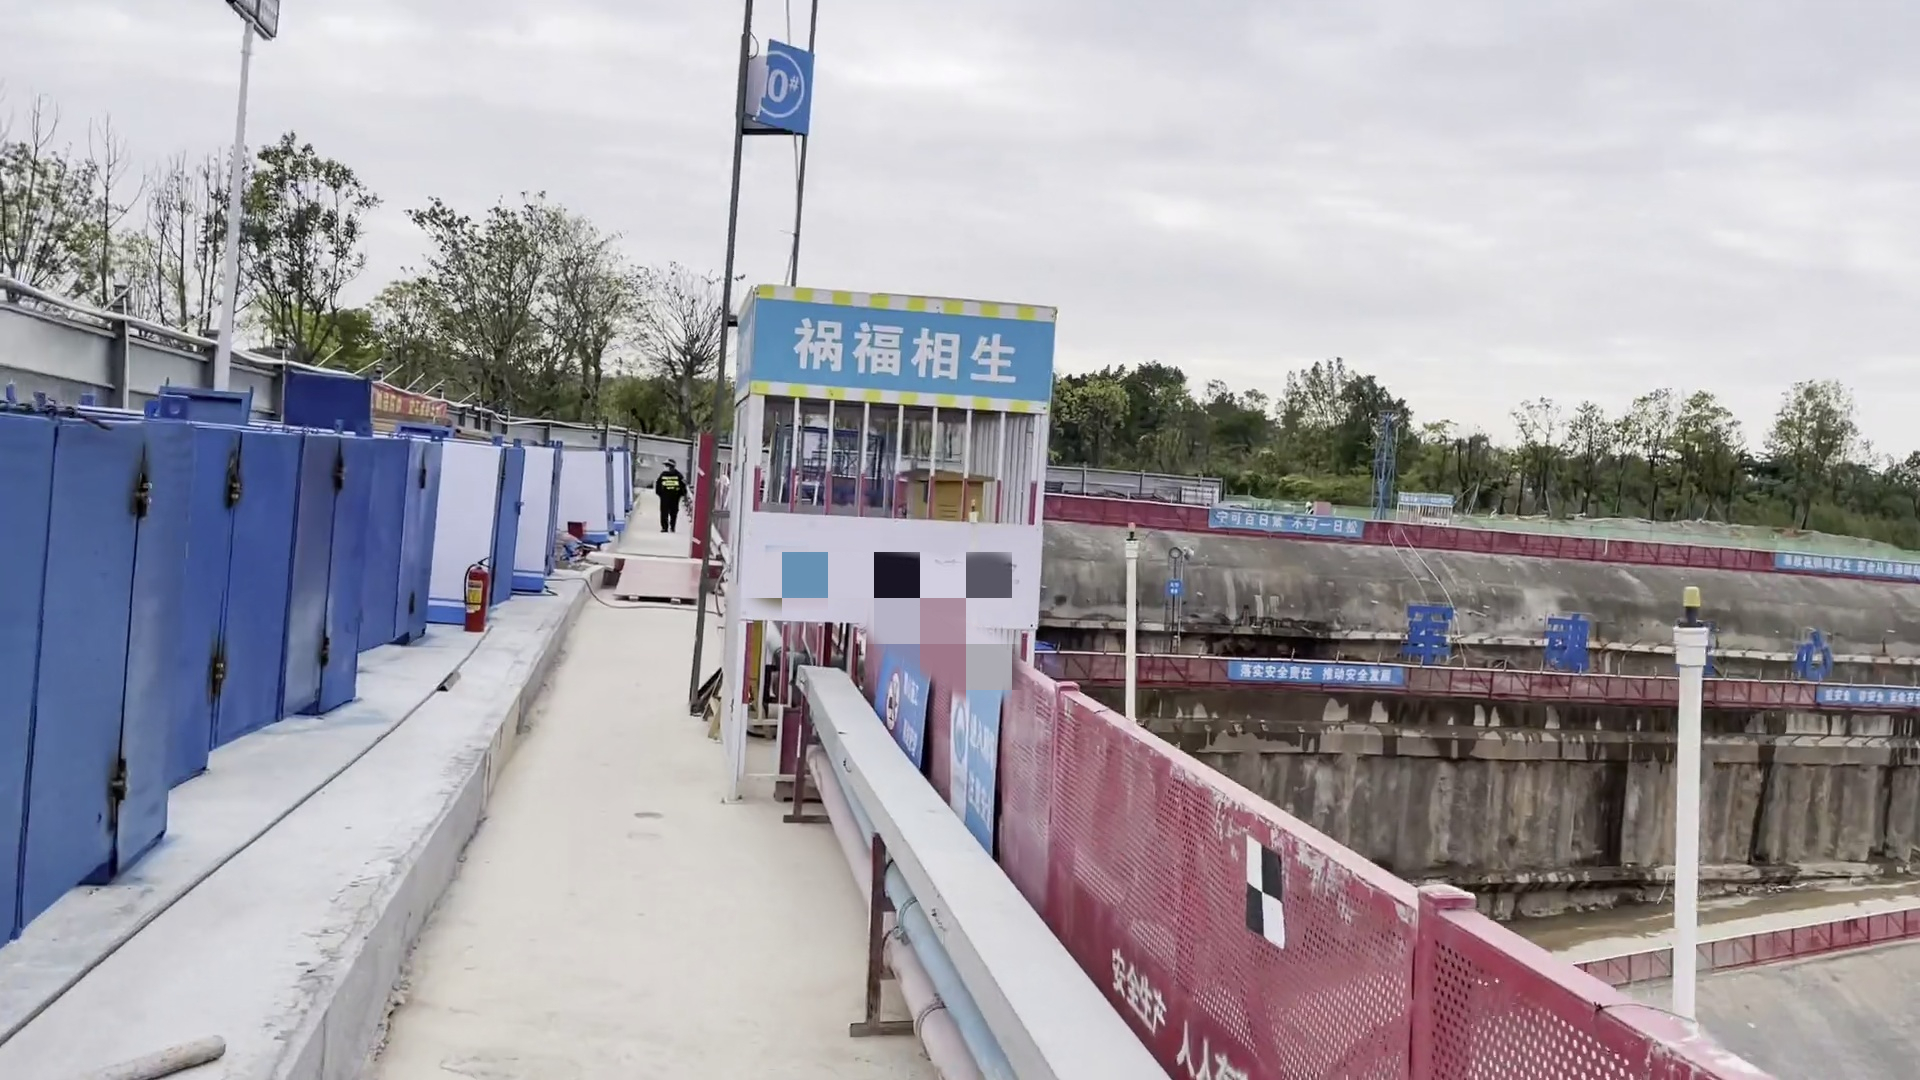ebox: (895, 462, 992, 624), (713, 592, 769, 724)
fence: (1196, 778, 1768, 1080), (867, 623, 1204, 1080), (1492, 659, 1920, 725), (1037, 649, 1498, 709), (1041, 489, 1376, 554)
helmet: (658, 456, 679, 467)
person: (651, 451, 690, 537)
slogan: (700, 278, 1084, 424), (863, 622, 1042, 877), (732, 25, 830, 158), (1222, 653, 1410, 700), (1199, 500, 1371, 550), (1767, 543, 1920, 592), (363, 377, 463, 432), (1814, 677, 1920, 720), (457, 578, 495, 620)
vest: (653, 471, 683, 498)
